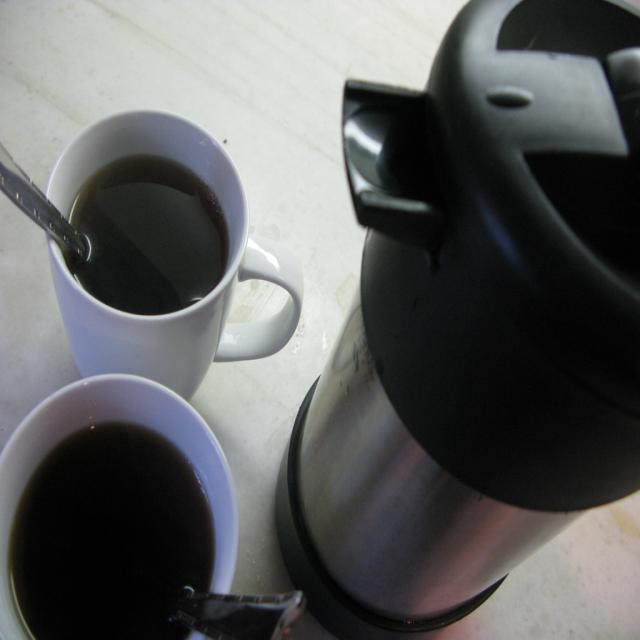Coffee: (30, 108, 294, 422), (5, 428, 216, 640)
Tea: (9, 421, 216, 640), (64, 155, 228, 317)
